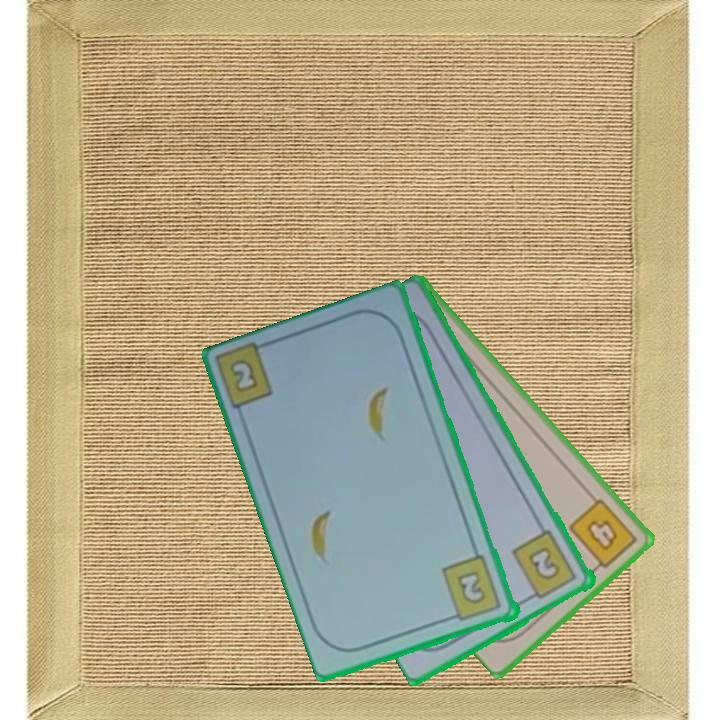2b: (508, 527, 581, 604), (439, 552, 505, 625), (229, 359, 258, 392)
4b: (565, 494, 641, 576)
